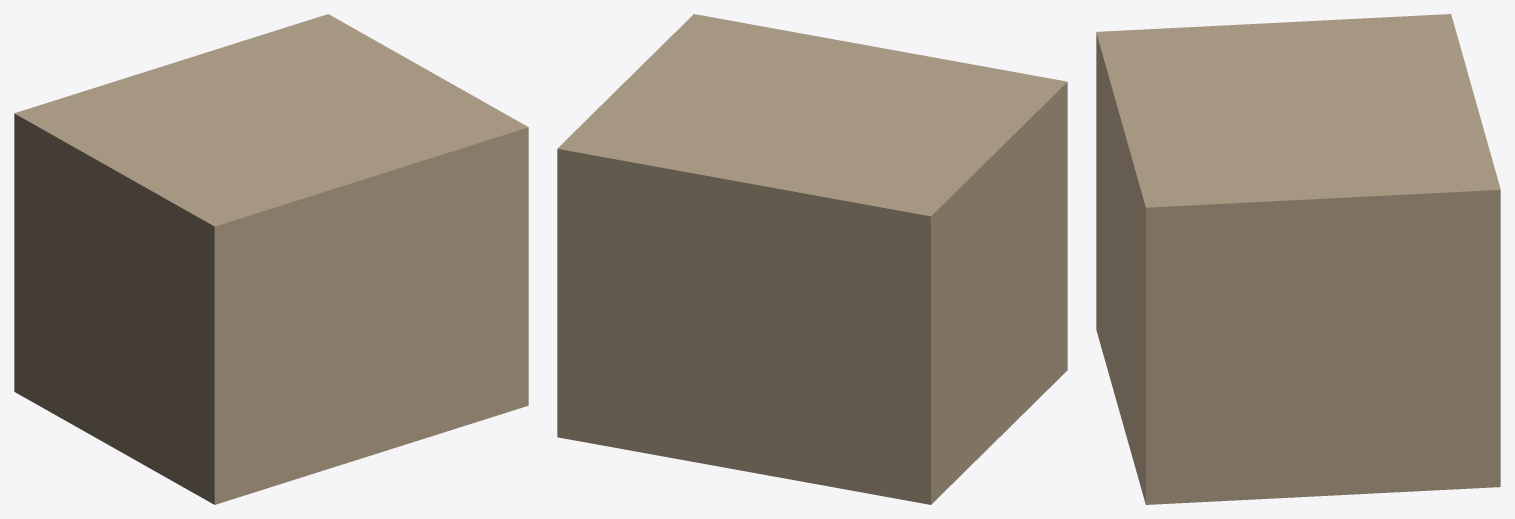
The model's file is bld_109034724.dae.
3 renders of one model, left to right at view 1: azimuth 30°, elevation 25°; view 2: azimuth 150°, elevation 25°; view 3: azimuth 270°, elevation 25°, orthographic. The views are drawn at different scales.
Visible parts, largest first — view 1: bld_109034724; view 2: bld_109034724; view 3: bld_109034724.
Boxes of the visible parts, x1,y1,x2,y2 form: bld_109034724: (14,14,528,504); bld_109034724: (557,14,1067,504); bld_109034724: (1096,14,1500,504).
Bounding box in the file's own units: 11.18 × 9.87 × 8.
